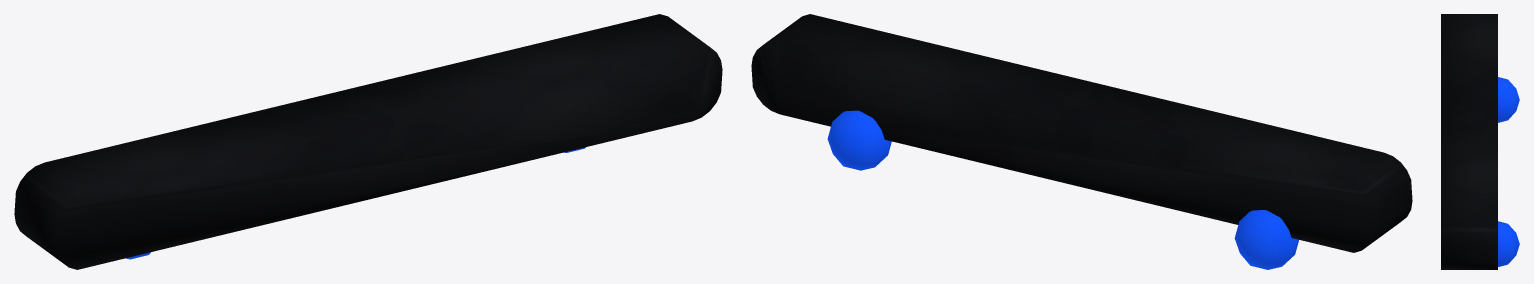
Rendered from MEETING_CAMERA_BAR_001.glb.
The picture shows the model from 3 angles, left to right: view 1: azimuth 30°, elevation 25°; view 2: azimuth 150°, elevation 25°; view 3: azimuth 270°, elevation 25°; orthographic projection. The views are drawn at different scales.
Parts seen in each view (by area): view 1: camera_bar_000; view 2: camera_bar_000, lens_001, lens_002; view 3: camera_bar_000, lens_001, lens_002.
Part boxes in pixels (x1,y1,x2,y2): camera_bar_000: (14, 14, 722, 269); camera_bar_000: (751, 14, 1412, 252); lens_001: (1234, 210, 1298, 269); lens_002: (827, 110, 891, 170); camera_bar_000: (1441, 14, 1497, 269); lens_001: (1498, 77, 1519, 122); lens_002: (1498, 221, 1519, 266).
Size of the model in its own units: 0.55 by 0.09 by 0.083.
Materials: 2 (2 with a texture image).
